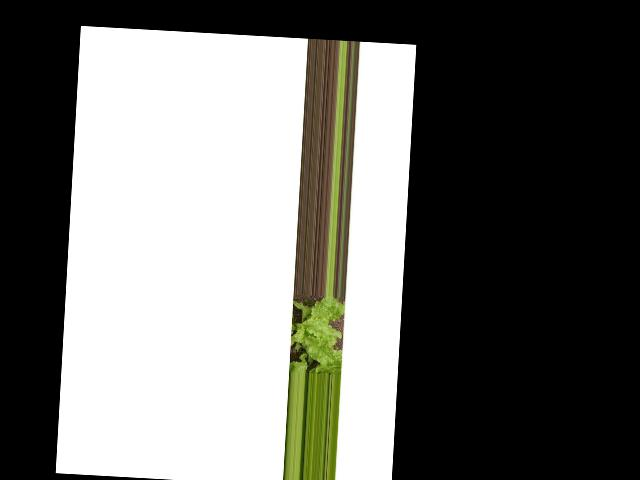lettuce: (285, 294, 343, 375)
